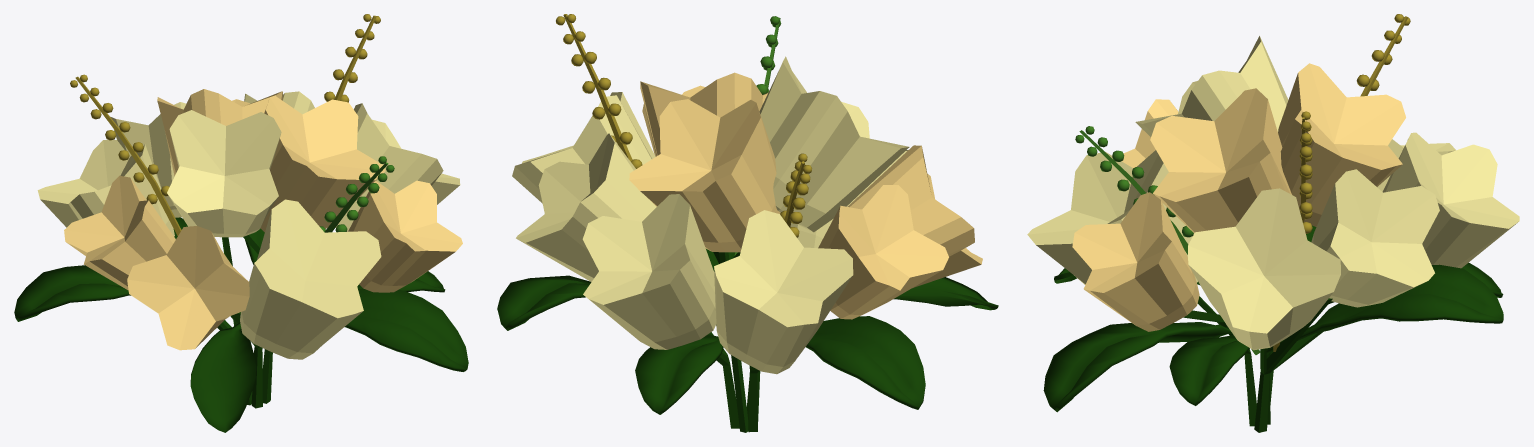
Rendered from Flowers.fbx.
3 renders of one model, left to right at view 1: azimuth 30°, elevation 25°; view 2: azimuth 150°, elevation 25°; view 3: azimuth 270°, elevation 25°, orthographic. The views are drawn at different scales.
Visible parts, largest first — view 1: Flowers; view 2: Flowers; view 3: Flowers.
Part boxes in pixels (x1,y1,x2,y2): Flowers: (14,14,468,432); Flowers: (497,14,998,432); Flowers: (1027,14,1519,432).
Size of the model in its own units: 40.18 by 33.33 by 38.54.
